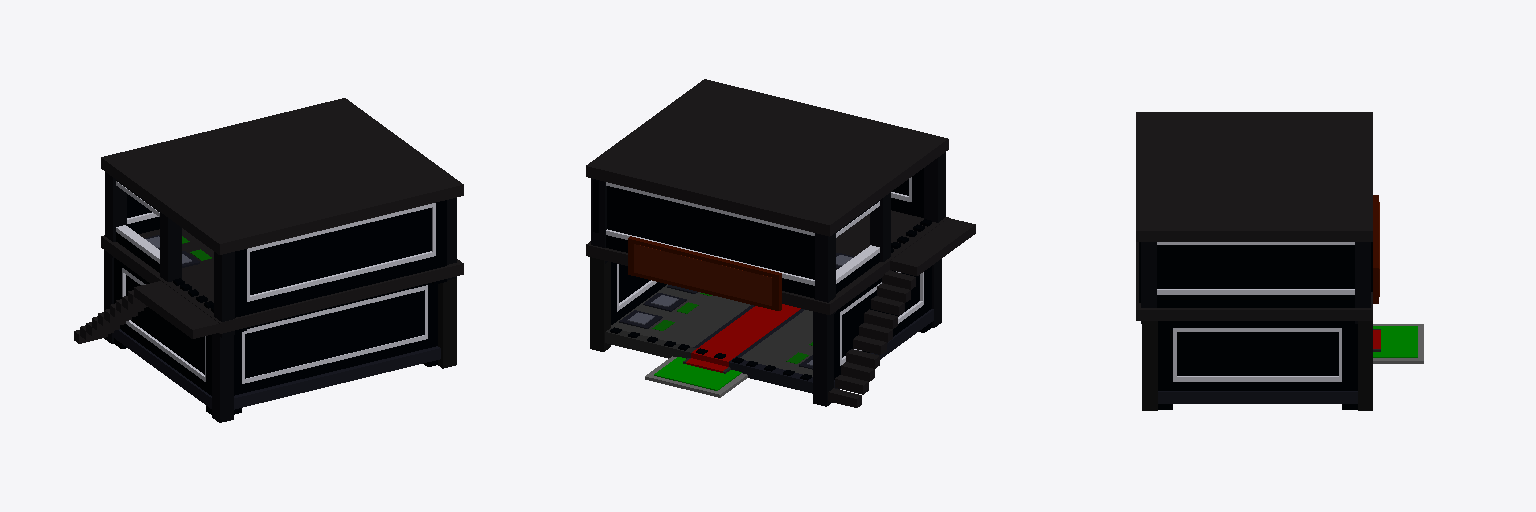
File: house.obj
3 views of the same model, side by side, from view 1: azimuth 30°, elevation 25°; view 2: azimuth 150°, elevation 25°; view 3: azimuth 270°, elevation 25° (orthographic).
Parts seen in each view (by area): view 1: Part1, Part96, Part35, Part97, Part98, Part29, Part12, Part77, Part76, Part92, Part65, Part56 (+16 smaller); view 2: Part1, Part48, Part97, Playernamebase1, Part100, Part101, Part109, Part12, Signspart1, Part86, Part75, Part53 (+15 smaller); view 3: Part1, Part38, Part66, Part97, Part88, Part40, Part70, Part65, Part73, Part75, Collectzone1, Part39 (+9 smaller).
Boxes of the visible parts, <box> form: Part1: <box>101,98,463,254</box>; Part96: <box>245,290,424,378</box>; Part35: <box>250,208,431,294</box>; Part97: <box>101,228,463,333</box>; Part98: <box>234,346,440,409</box>; Part29: <box>235,256,434,314</box>; Part12: <box>134,281,219,338</box>; Part77: <box>126,275,204,374</box>; Part76: <box>212,334,233,422</box>; Part92: <box>242,337,437,393</box>; Part65: <box>438,278,456,368</box>; Part56: <box>214,252,234,337</box>; Part1: <box>586,79,948,236</box>; Part48: <box>607,186,814,279</box>; Part97: <box>586,210,948,314</box>; Playernamebase1: <box>634,244,771,305</box>; Part100: <box>611,284,750,346</box>; Part101: <box>691,304,800,366</box>; Part109: <box>740,310,812,376</box>; Part12: <box>890,218,975,275</box>; Signspart1: <box>628,236,781,310</box>; Part86: <box>813,311,833,406</box>; Part75: <box>590,257,610,351</box>; Part53: <box>815,233,835,317</box>; Part1: <box>1136,112,1372,241</box>; Part38: <box>1157,242,1372,291</box>; Part66: <box>1177,332,1338,375</box>; Part97: <box>1136,242,1372,320</box>; Part88: <box>1158,391,1357,403</box>; Part40: <box>1157,295,1354,307</box>; Part70: <box>1158,382,1357,390</box>; Part65: <box>1142,321,1157,410</box>; Part73: <box>1159,321,1357,327</box>; Part75: <box>1358,321,1372,410</box>; Collectzone1: <box>1373,326,1417,357</box>; Part39: <box>1157,289,1354,294</box>.
Size of the model in its own units: 72.07 by 46.25 by 66.42.